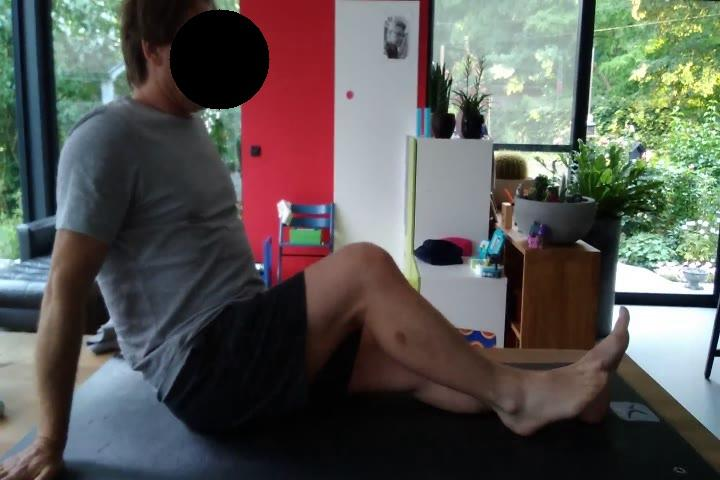lower_body: (165, 240, 633, 441)
